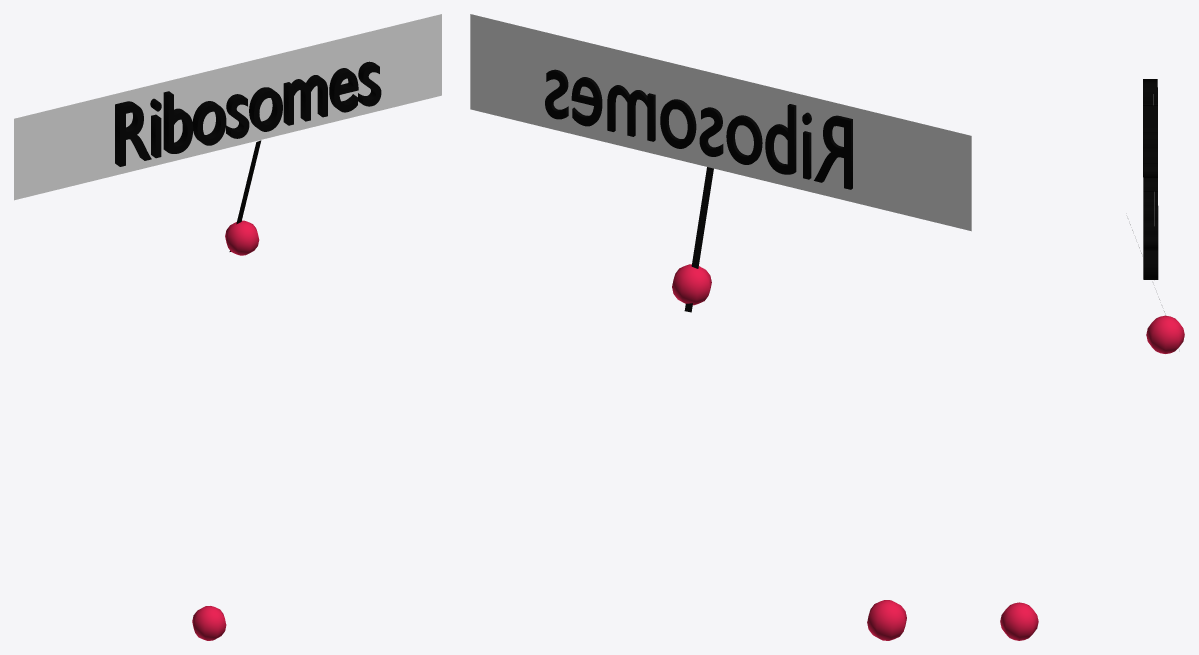
Rendered from ribosomes.gltf.
The picture shows the model from 3 angles, left to right: view 1: azimuth 30°, elevation 25°; view 2: azimuth 150°, elevation 25°; view 3: azimuth 270°, elevation 25°; orthographic projection. The views are drawn at different scales.
Visible parts, largest first — view 1: Plane.039, Text.021, Piedras_Rojas.001; view 2: Plane.039, Text.021, Piedras_Rojas.001, Plane.013; view 3: Text.021, Piedras_Rojas.001.
Boxes of the visible parts, left/top/right/bottom form: Plane.039: left=14, top=14, right=441, bottom=200; Text.021: left=115, top=61, right=381, bottom=166; Piedras_Rojas.001: left=192, top=220, right=259, bottom=640; Plane.039: left=470, top=14, right=971, bottom=231; Text.021: left=545, top=69, right=852, bottom=189; Piedras_Rojas.001: left=672, top=264, right=906, bottom=640; Plane.013: left=684, top=167, right=713, bottom=312; Text.021: left=1143, top=79, right=1158, bottom=279; Piedras_Rojas.001: left=1000, top=315, right=1184, bottom=640.
Size of the model in its own units: 1.33 by 1.51 by 0.4573.
